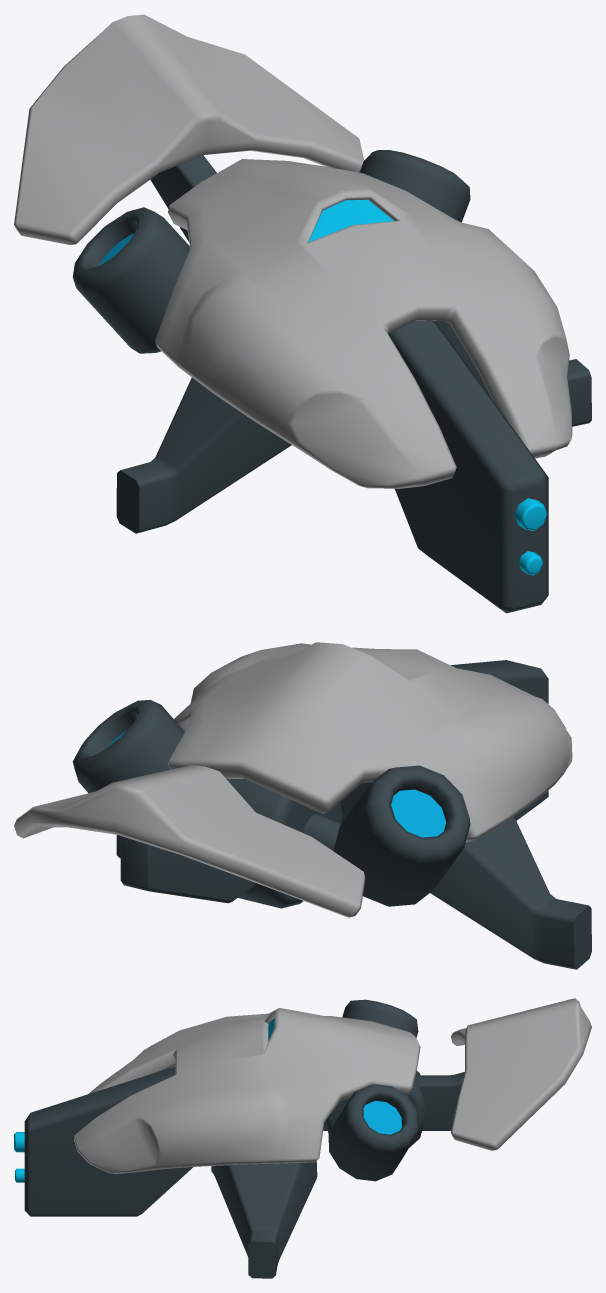
The model's file is Drone_006.fbx.
The picture shows the model from 3 angles, top to bottom: view 1: azimuth 30°, elevation 25°; view 2: azimuth 150°, elevation 25°; view 3: azimuth 270°, elevation 25°; orthographic projection. The views are drawn at different scales.
Parts seen in each view (by area): view 1: Drone_006; view 2: Drone_006; view 3: Drone_006.
Boxes of the visible parts, x1,y1,x2,y2 form: Drone_006: (14,14,591,613); Drone_006: (14,642,591,969); Drone_006: (14,998,591,1278).
Size of the model in its own units: 46.31 by 73.58 by 29.3.
